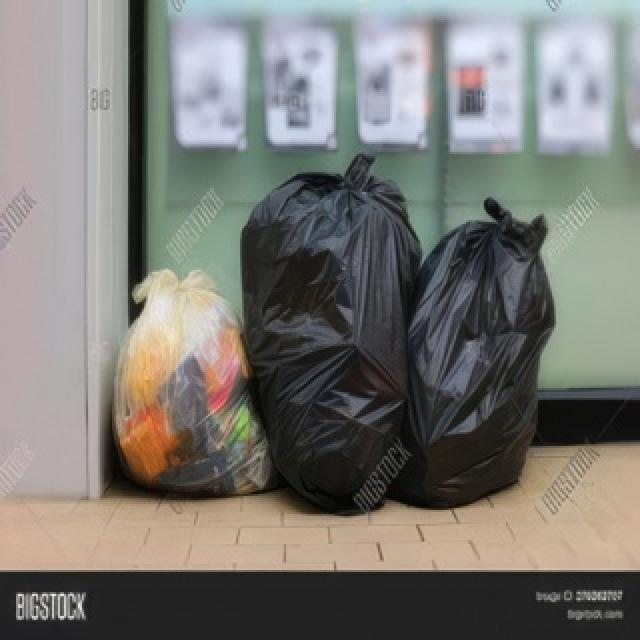high trash: (115, 154, 555, 513)
